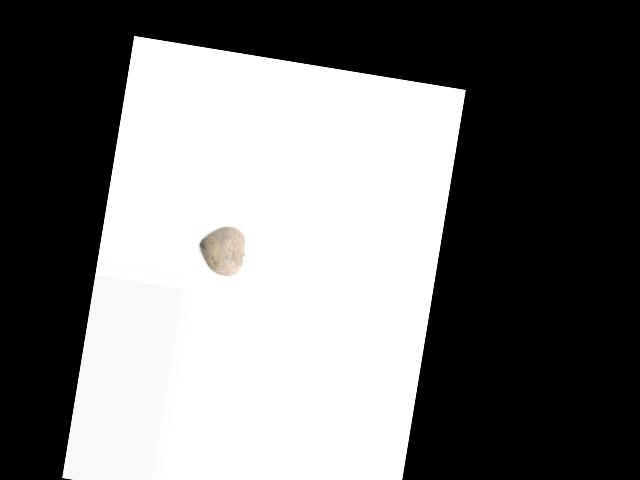beet: (195, 222, 247, 278)
